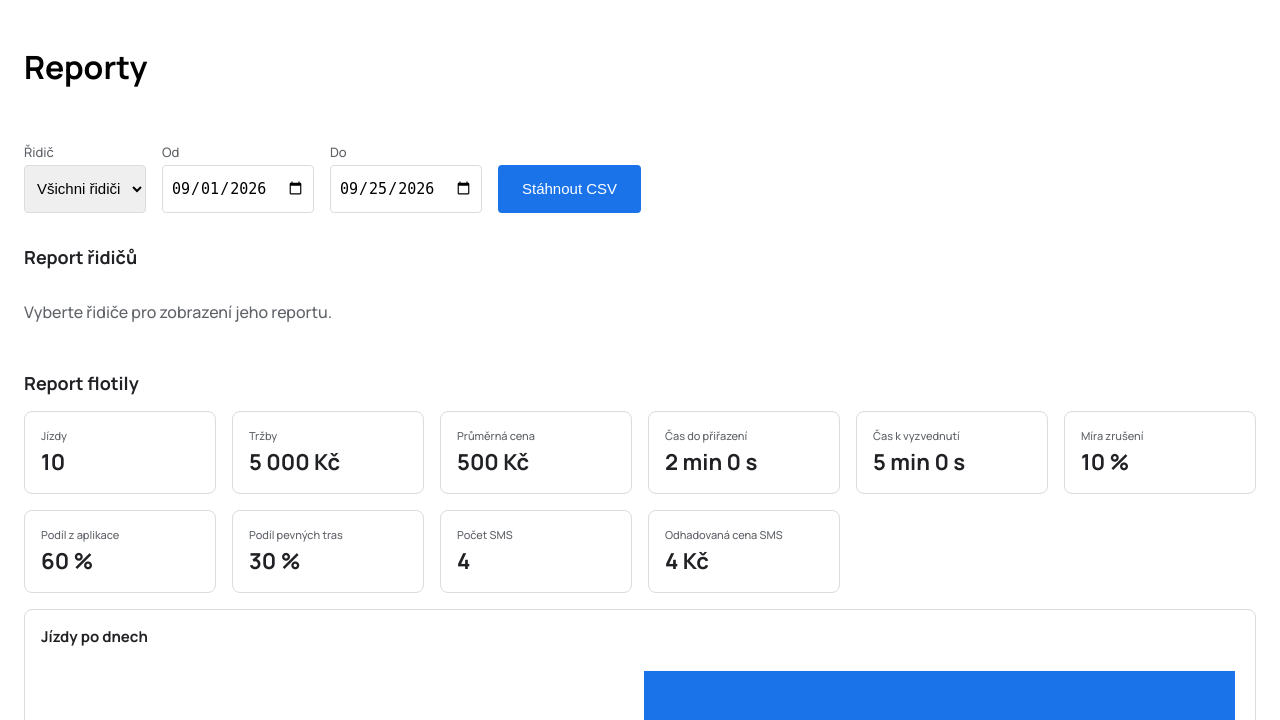
Test: ReportsPage › renders the driver report table with a totals row once a driver is selected
Select "Jan Novák" in the dropdown labelled "Řidič": (85, 189) [24,165,146,213]
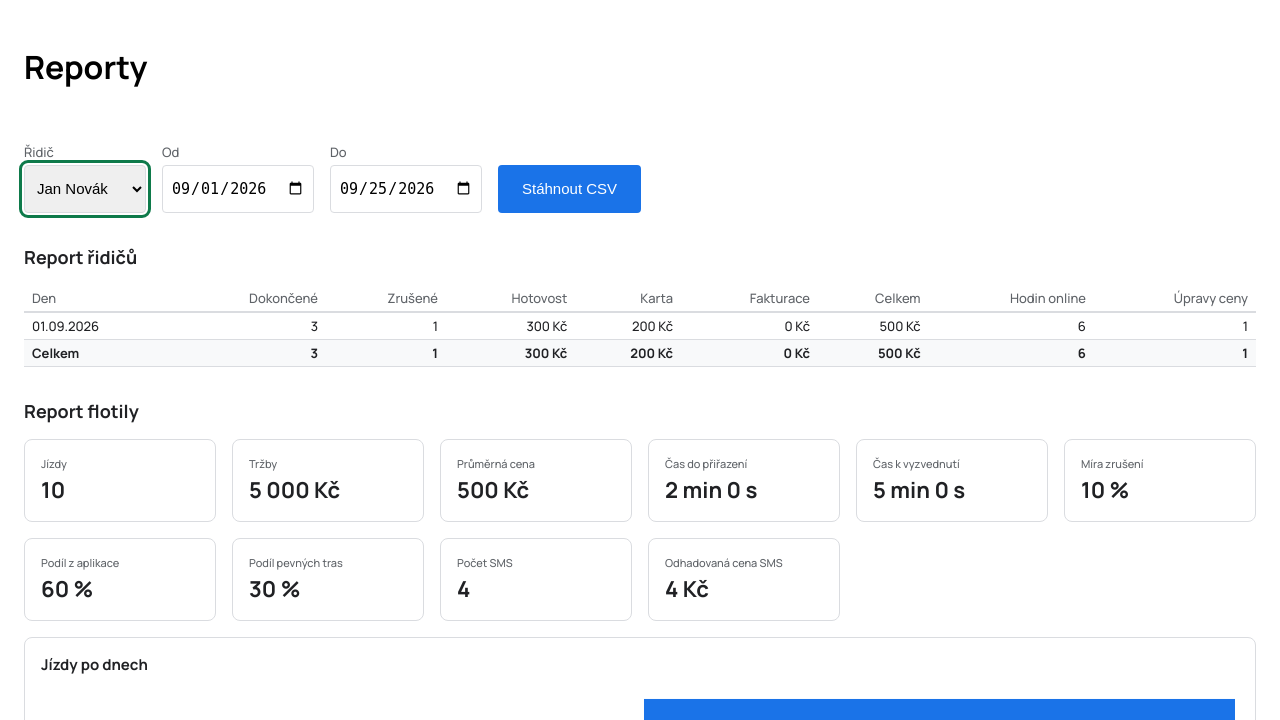
Check: the text "01.09.2026" is shown, box [24,312,174,339]
